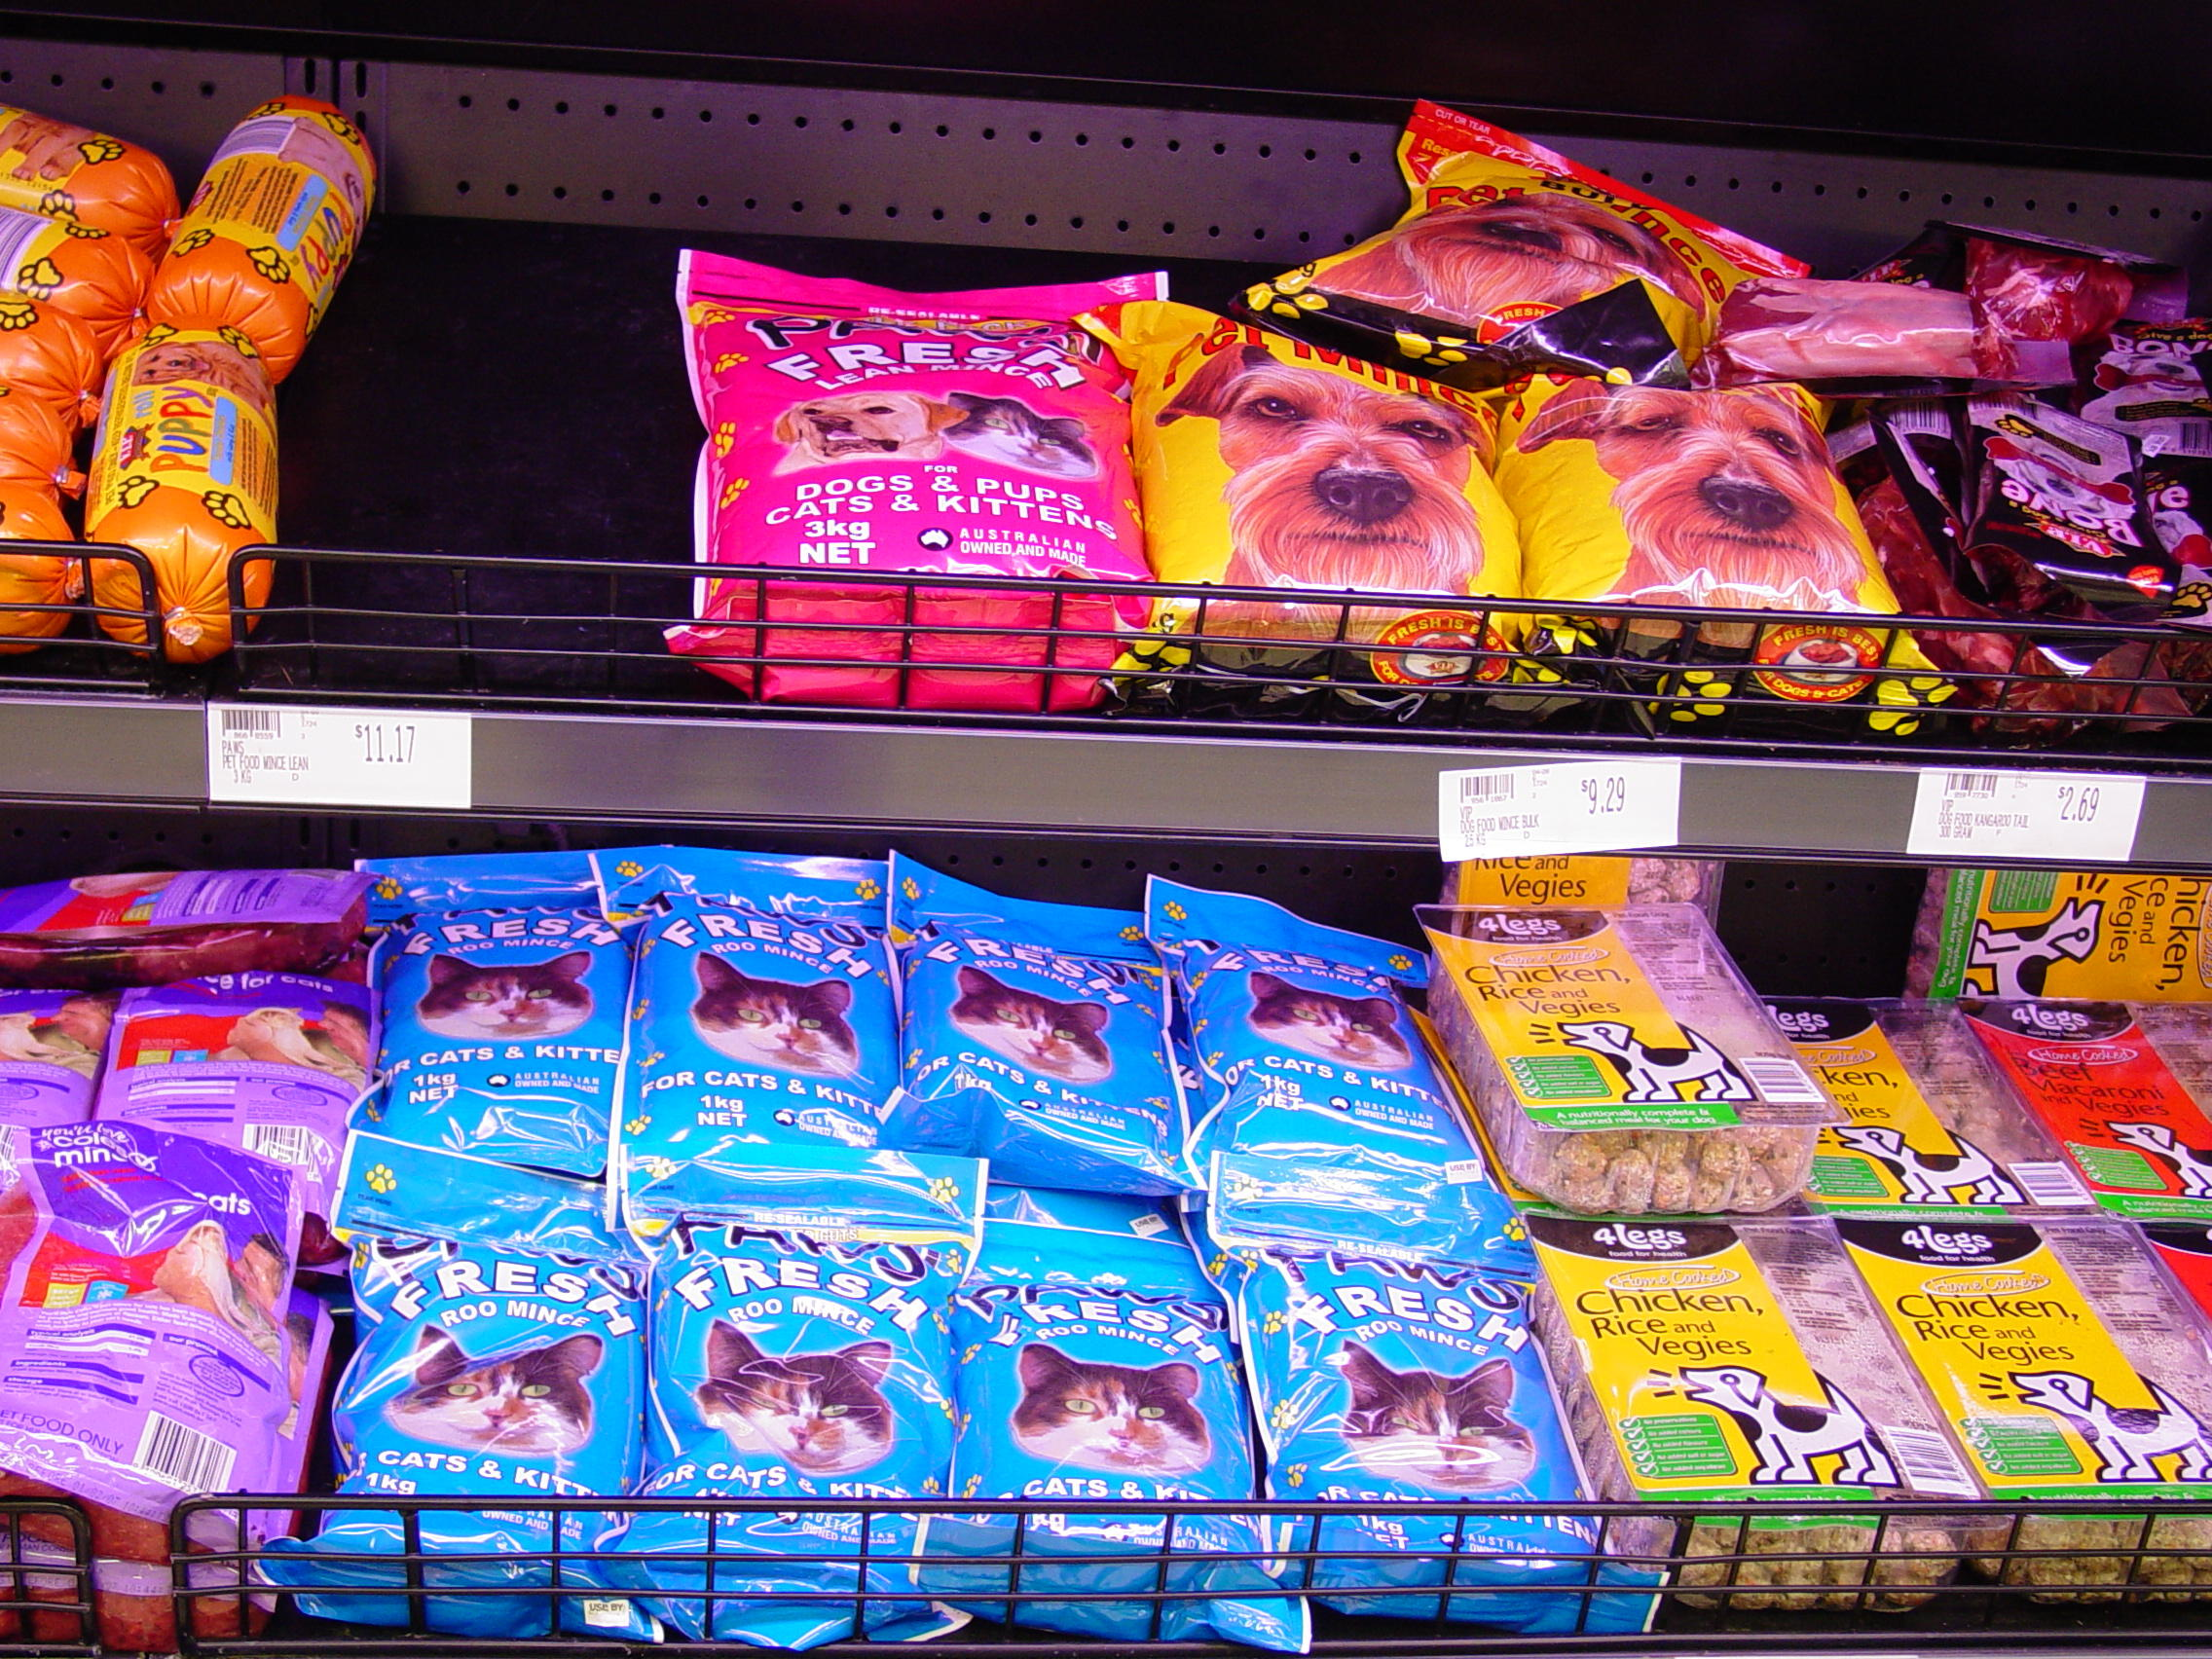Out-of-stock: (312, 78, 653, 678)
